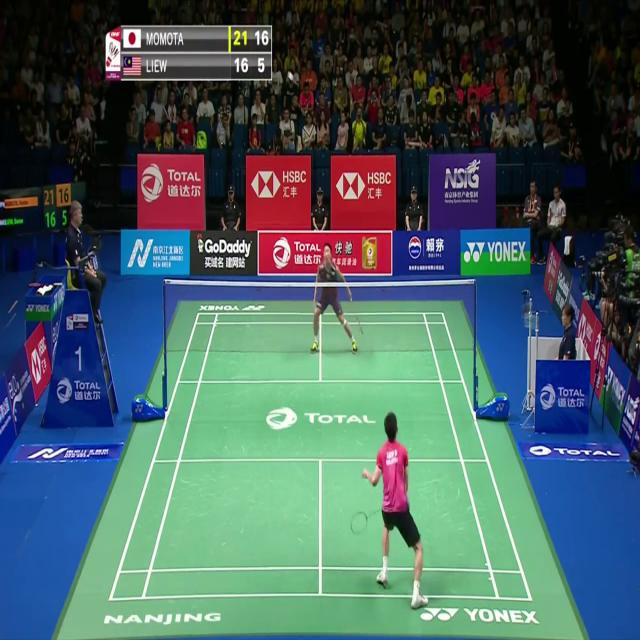Shuttlecock: (287, 69, 294, 80)
